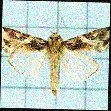Spodoptera litura: (1, 16, 109, 97)
